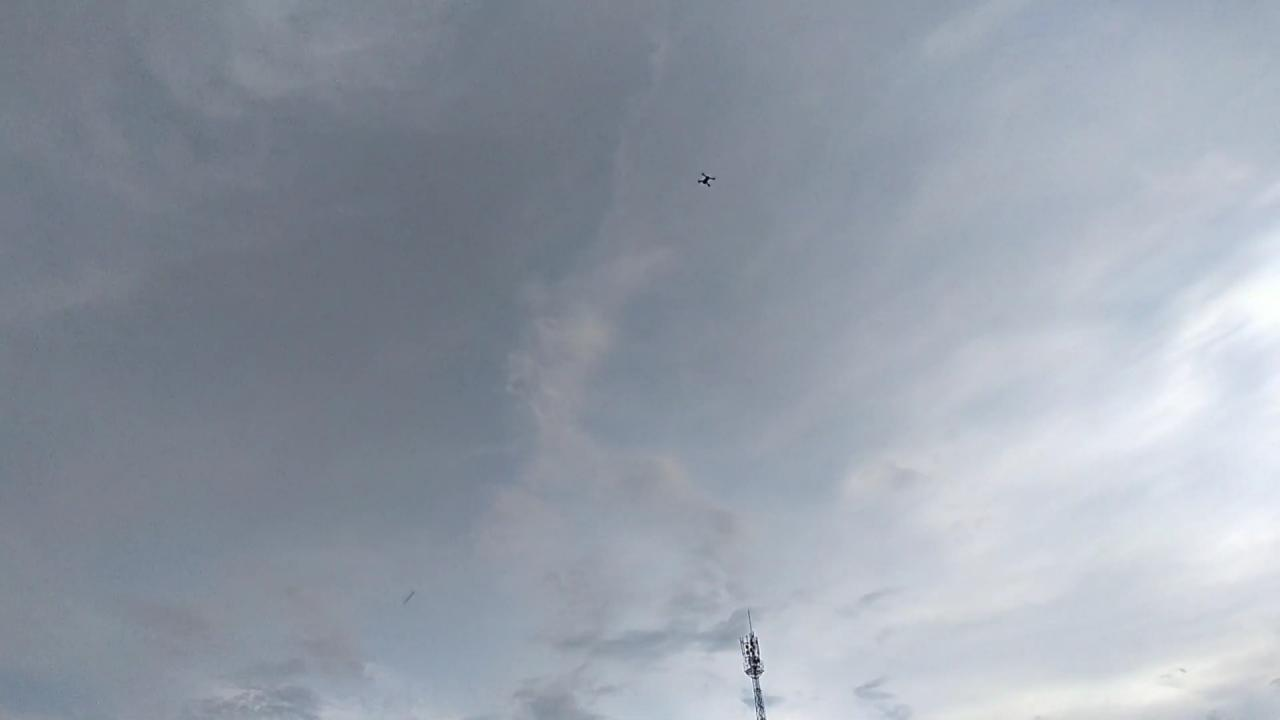Drone: (686, 163, 726, 197)
